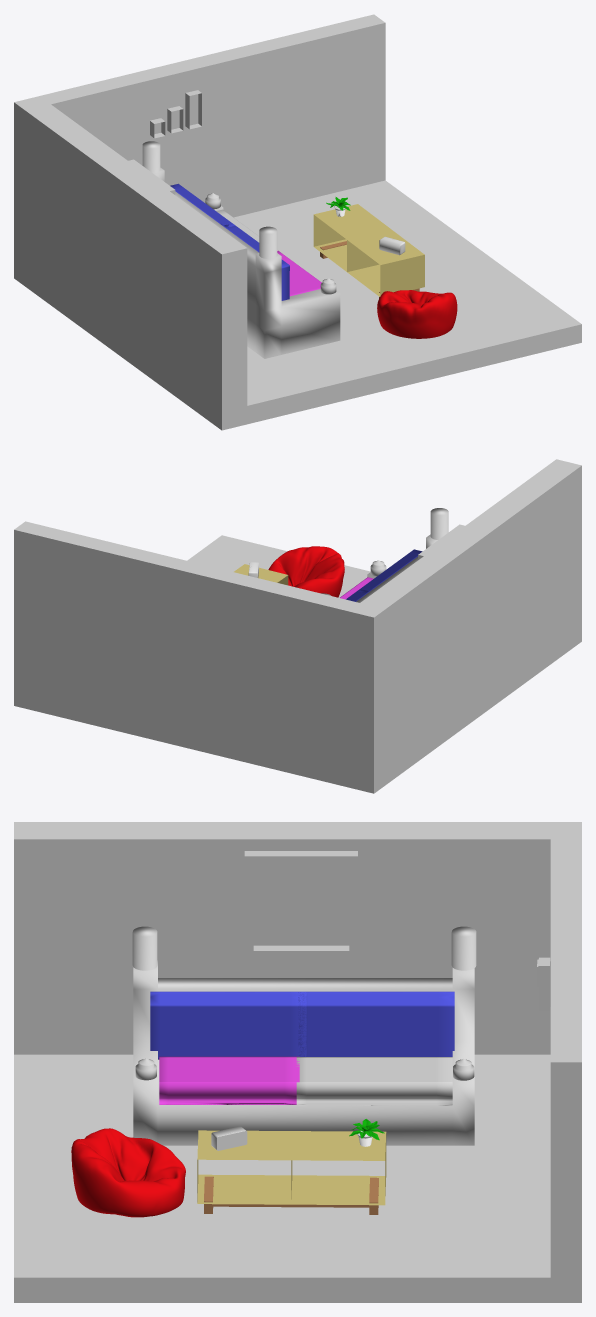
File: Room.dae
The picture shows the model from 3 angles, top to bottom: view 1: azimuth 30°, elevation 25°; view 2: azimuth 150°, elevation 25°; view 3: azimuth 270°, elevation 25°; orthographic projection. The views are drawn at different scales.
Visible parts, largest first — view 1: Plane.006, Plane, Cube.004, Sphere, Plane.002, Plane.004, Cube.006, Cylinder.001, Plane.003, Cylinder; view 2: Plane.006, Sphere, Plane.004, Cylinder.001, Cube.004; view 3: Plane.006, Plane, Plane.018, Plane.004, Cube.004, Plane.003, Sphere, Plane.001, Plane.002, Cylinder.001, Cylinder, Cube.006.
Part boxes in pixels (x1,y1,x2,y2): Plane.006: [14, 14, 581, 430]; Plane: [153, 167, 340, 358]; Cube.004: [313, 204, 424, 296]; Sphere: [377, 290, 457, 338]; Plane.002: [277, 250, 321, 296]; Plane.004: [220, 223, 289, 300]; Cube.006: [185, 90, 201, 129]; Cylinder.001: [259, 226, 277, 258]; Plane.003: [170, 183, 235, 227]; Cylinder: [142, 141, 160, 173]; Plane.006: [14, 459, 581, 793]; Sphere: [268, 546, 344, 597]; Plane.004: [357, 549, 422, 592]; Cylinder.001: [430, 508, 448, 539]; Cube.004: [234, 564, 288, 585]; Plane.006: [14, 822, 581, 1302]; Plane: [133, 960, 474, 1145]; Plane.018: [244, 851, 357, 958]; Plane.004: [150, 991, 306, 1059]; Cube.004: [197, 1130, 386, 1205]; Plane.003: [298, 991, 454, 1056]; Sphere: [71, 1128, 185, 1217]; Plane.001: [296, 1057, 452, 1105]; Plane.002: [159, 1056, 299, 1104]; Cylinder.001: [132, 926, 157, 970]; Cylinder: [451, 926, 476, 970]; Cube.006: [538, 957, 550, 1011].
Size of the model in its own units: 110 by 110 by 51.42.
